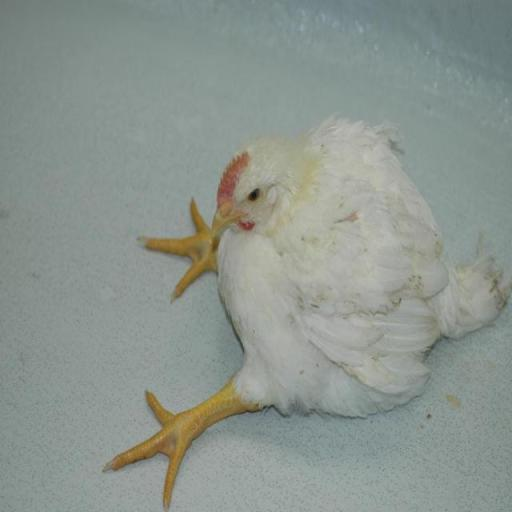healthy: (212, 150, 283, 236)
